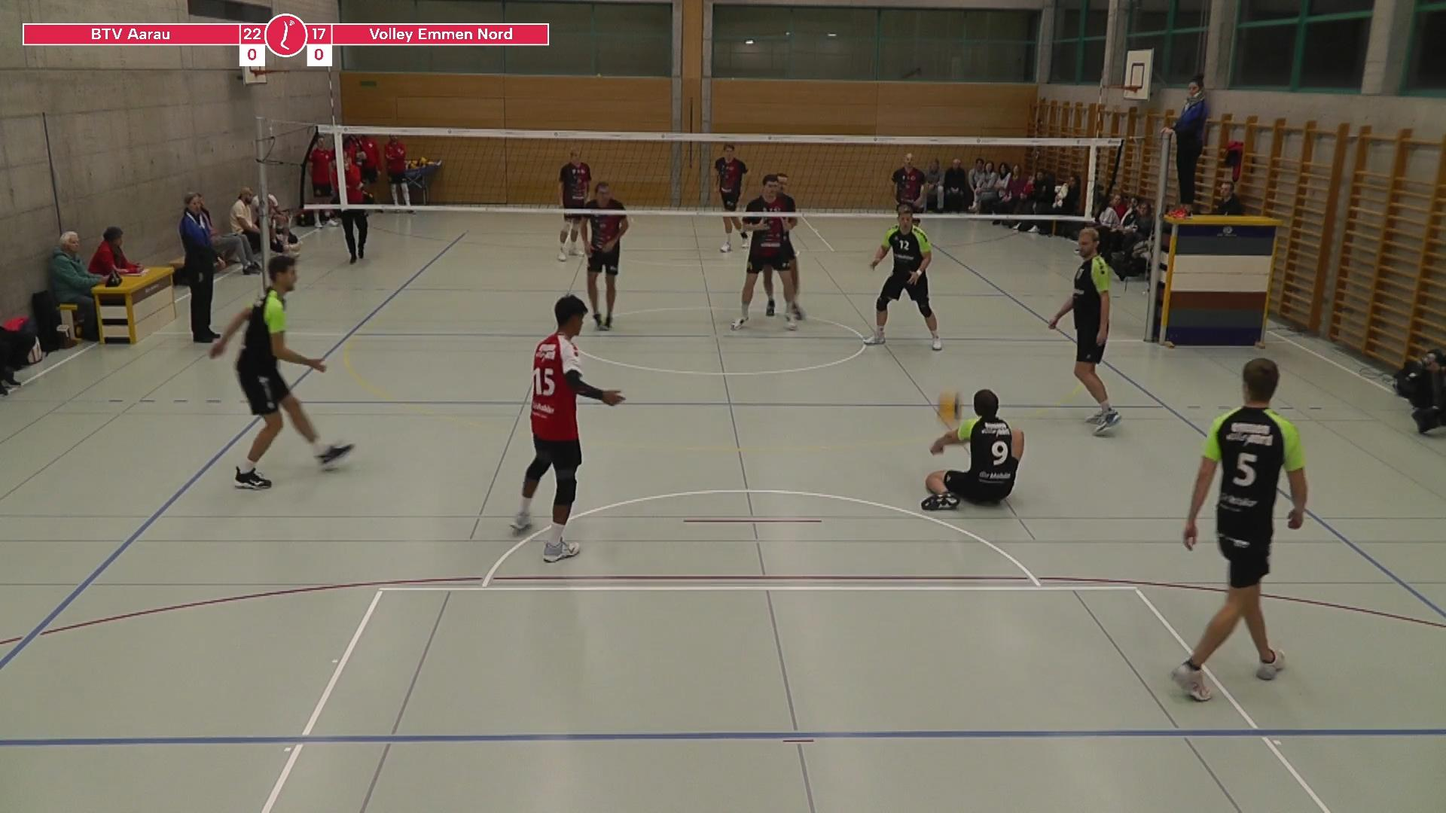Player: (1172, 358, 1307, 700), (209, 255, 352, 489), (511, 294, 624, 562), (1048, 227, 1120, 434), (865, 203, 942, 350), (731, 217, 796, 330), (583, 181, 629, 329), (714, 144, 747, 211), (891, 154, 924, 212), (560, 214, 581, 261)
Receive: (917, 375, 1028, 511)
ball: (929, 388, 966, 428)
